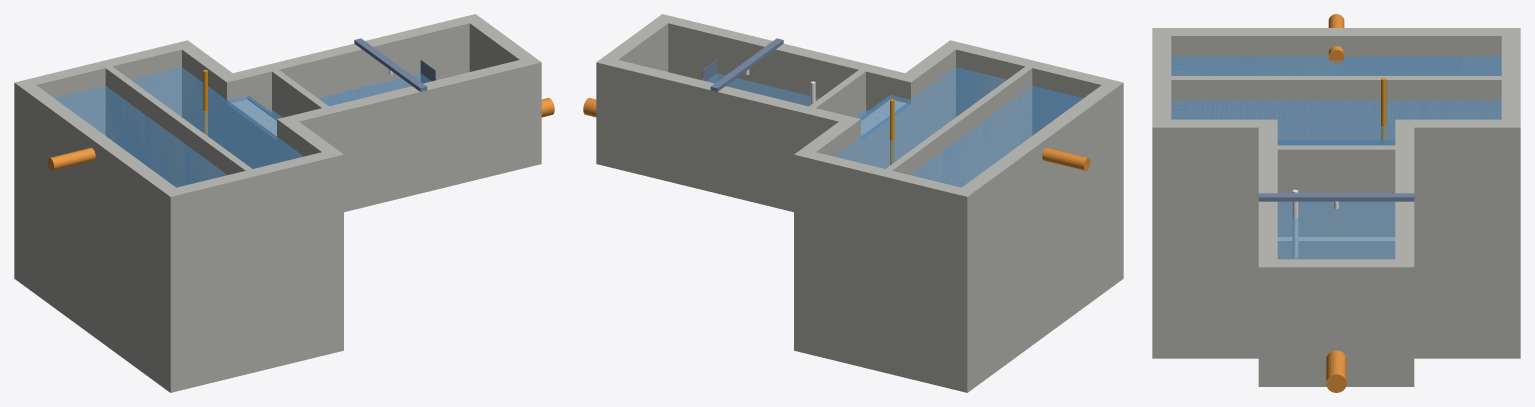
The model's file is weir_tank.dae.
3 views of the same model, side by side, from view 1: azimuth 30°, elevation 25°; view 2: azimuth 150°, elevation 25°; view 3: azimuth 270°, elevation 25° (orthographic). The views are drawn at different scales.
Parts seen in each view (by area): view 1: คอนกรีต - ผนังหัวบ่อ, คอนกรีต - ผนังข้างช่อง 1 (ซ้าย), คอนกรีต - ผนังข้างช่อง 3 (ซ้าย), คอนกรีต - ผนังข้างช่อง 3 (ขวา), คอนกรีต - ผนังกันน้ำกระแทก, น้ำ - น้ำช่อง 1 (หน้าผนังกันน้ำกระแทก), น้ำ - น้ำช่อง 1 (โซนปั๊ม), คอนกรีต - ผนังข้างช่อง 1 (ขวา), คอนกรีต - พื้นช่อง 1, คอนกรีต - ผนังปลายช่อง 1 (ขวา), คอนกรีต - พื้นช่อง 3, คอนกรีต - ช่อง 2 พื้นยก (+7 smaller); view 2: คอนกรีต - ผนังหัวบ่อ, คอนกรีต - ผนังข้างช่อง 1 (ขวา), คอนกรีต - ผนังข้างช่อง 3 (ขวา), คอนกรีต - ผนังข้างช่อง 3 (ซ้าย), คอนกรีต - ผนังกันน้ำกระแทก, น้ำ - น้ำช่อง 1 (หน้าผนังกันน้ำกระแทก), น้ำ - น้ำช่อง 1 (โซนปั๊ม), คอนกรีต - ผนังข้างช่อง 1 (ซ้าย), คอนกรีต - พื้นช่อง 1, คอนกรีต - ผนังปลายช่อง 1 (ซ้าย), คอนกรีต - พื้นช่อง 3, คอนกรีต - ช่อง 2 พื้นยก (+7 smaller); view 3: คอนกรีต - ผนังปลายช่อง 1 (ซ้าย), คอนกรีต - ผนังปลายช่อง 1 (ขวา), คอนกรีต - ผนังกันน้ำกระแทก, คอนกรีต - ผนังหัวบ่อ, คอนกรีต - ผนังท้ายบ่อ, คอนกรีต - ผนัง ① ลอดใต้, น้ำ - น้ำช่อง 1 (โซนปั๊ม), น้ำ - น้ำช่อง 3, น้ำ - น้ำช่อง 1 (หน้าผนังกันน้ำกระแทก), คอนกรีต - ผนังข้างช่อง 1 (ซ้าย), คอนกรีต - ผนังข้างช่อง 1 (ขวา), คอนกรีต - ผนังข้างช่อง 3 (ซ้าย) (+9 smaller).
Boxes of the visible parts, x1,y1,x2,y2 form: คอนกรีต - ผนังหัวบ่อ: (14, 79, 184, 378); คอนกรีต - ผนังข้างช่อง 1 (ซ้าย): (177, 149, 343, 389); คอนกรีต - ผนังข้างช่อง 3 (ซ้าย): (298, 56, 541, 197); คอนกรีต - ผนังข้างช่อง 3 (ขวา): (240, 14, 483, 112); คอนกรีต - ผนังกันน้ำกระแทก: (105, 66, 251, 187); น้ำ - น้ำช่อง 1 (หน้าผนังกันน้ำกระแทก): (55, 86, 226, 187); น้ำ - น้ำช่อง 1 (โซนปั๊ม): (131, 67, 303, 168); คอนกรีต - ผนังข้างช่อง 1 (ขวา): (28, 40, 195, 135); คอนกรีต - พื้นช่อง 1: (14, 264, 329, 392); คอนกรีต - ผนังปลายช่อง 1 (ขวา): (182, 46, 240, 149); คอนกรีต - พื้นช่อง 3: (344, 149, 541, 212); คอนกรีต - ช่อง 2 พื้นยก: (227, 99, 276, 168); คอนกรีต - ผนังหัวบ่อ: (953, 79, 1123, 378); คอนกรีต - ผนังข้างช่อง 1 (ขวา): (794, 149, 960, 389); คอนกรีต - ผนังข้างช่อง 3 (ขวา): (596, 56, 839, 197); คอนกรีต - ผนังข้างช่อง 3 (ซ้าย): (654, 14, 897, 113); คอนกรีต - ผนังกันน้ำกระแทก: (886, 66, 1032, 187); น้ำ - น้ำช่อง 1 (หน้าผนังกันน้ำกระแทก): (911, 85, 1083, 187); น้ำ - น้ำช่อง 1 (โซนปั๊ม): (834, 67, 1006, 168); คอนกรีต - ผนังข้างช่อง 1 (ซ้าย): (942, 40, 1109, 134); คอนกรีต - พื้นช่อง 1: (808, 264, 1123, 392); คอนกรีต - ผนังปลายช่อง 1 (ซ้าย): (897, 46, 955, 149); คอนกรีต - พื้นช่อง 3: (596, 149, 793, 212); คอนกรีต - ช่อง 2 พื้นยก: (861, 100, 910, 168); คอนกรีต - ผนังปลายช่อง 1 (ซ้าย): (1171, 119, 1277, 358); คอนกรีต - ผนังปลายช่อง 1 (ขวา): (1395, 119, 1501, 358); คอนกรีต - ผนังกันน้ำกระแทก: (1171, 76, 1501, 144); คอนกรีต - ผนังหัวบ่อ: (1152, 28, 1520, 75); คอนกรีต - ผนังท้ายบ่อ: (1277, 259, 1395, 369); คอนกรีต - ผนัง ① ลอดใต้: (1277, 145, 1395, 236); น้ำ - น้ำช่อง 1 (โซนปั๊ม): (1171, 100, 1501, 144); น้ำ - น้ำช่อง 3: (1277, 201, 1395, 259); น้ำ - น้ำช่อง 1 (หน้าผนังกันน้ำกระแทก): (1171, 56, 1501, 75); คอนกรีต - ผนังข้างช่อง 1 (ซ้าย): (1152, 36, 1171, 358); คอนกรีต - ผนังข้างช่อง 1 (ขวา): (1501, 36, 1520, 358); คอนกรีต - ผนังข้างช่อง 3 (ซ้าย): (1258, 131, 1277, 369).
Size of the model in its own units: 7200 by 3900 by 3000.
